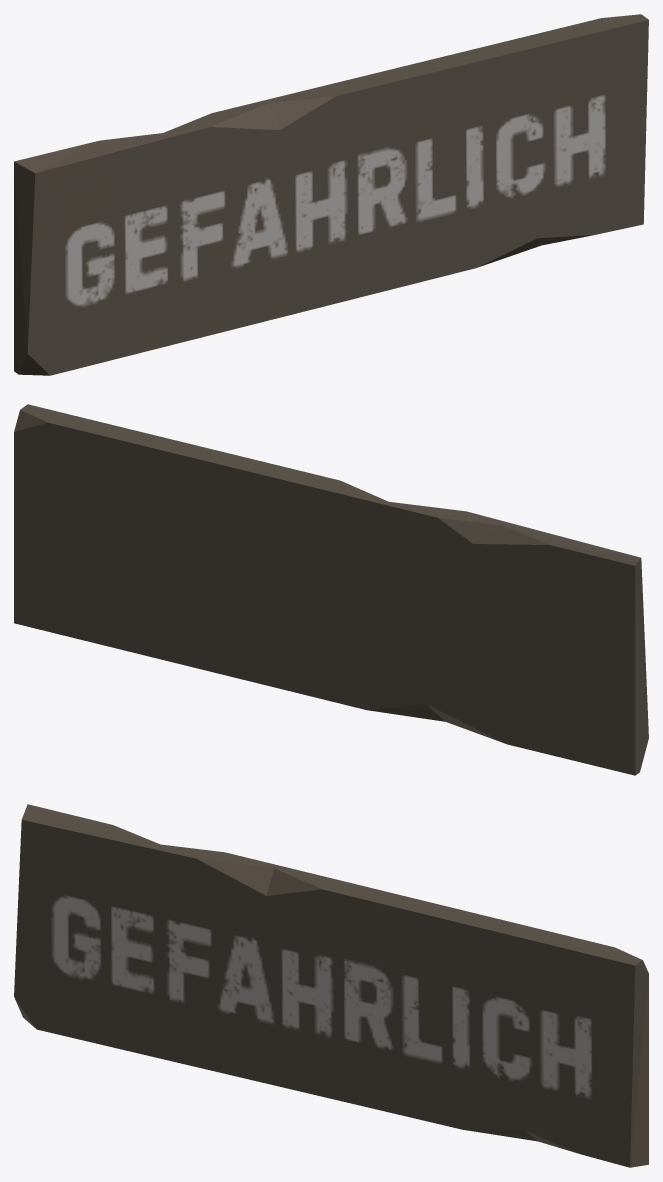
File: Prop_Sign_Schild_01.fbx
3 renders of one model, top to bottom at view 1: azimuth 30°, elevation 25°; view 2: azimuth 150°, elevation 25°; view 3: azimuth 330°, elevation 25°, orthographic.
Visible parts, largest first — view 1: Prop_Sign_Schild_01_LOD0; view 2: Prop_Sign_Schild_01_LOD0; view 3: Prop_Sign_Schild_01_LOD0.
Part boxes in pixels (x1=…): Prop_Sign_Schild_01_LOD0: x1=14, y1=14, x2=648, y2=375; Prop_Sign_Schild_01_LOD0: x1=14, y1=404, x2=648, y2=775; Prop_Sign_Schild_01_LOD0: x1=14, y1=804, x2=648, y2=1167.
Size of what is drawn, in the model's own units: 50.25 by 16.22 by 1.92.
